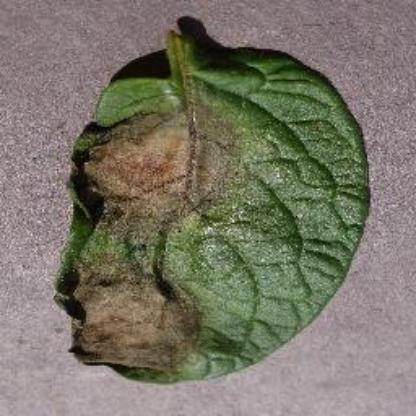Late-Blight: (25, 24, 382, 396)
